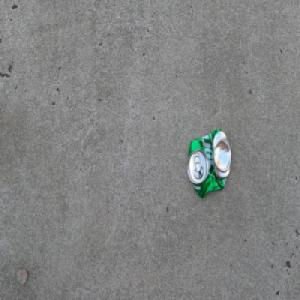SodaCan: (186, 127, 231, 198)
